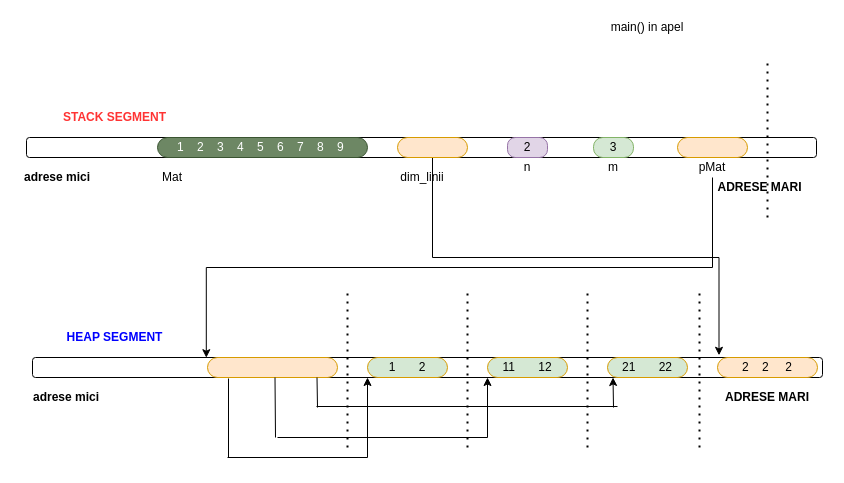
Some shapes in this 844 by 483 pixel diagram are drawn without their labels. The box of each missing label's shape, as (x1, y1, x2, y2) in pixels:
AH: (676, 136, 748, 158)
AHd: (396, 136, 468, 158)
AL1 AL2 AL3: (206, 356, 338, 378)
